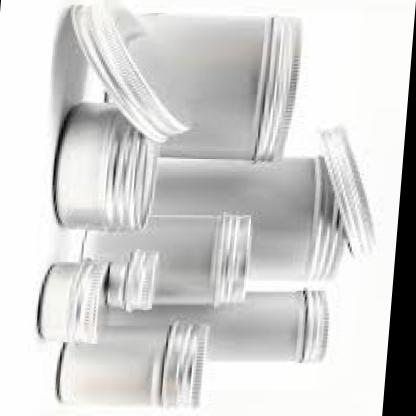Metal: (0, 0, 401, 403)
